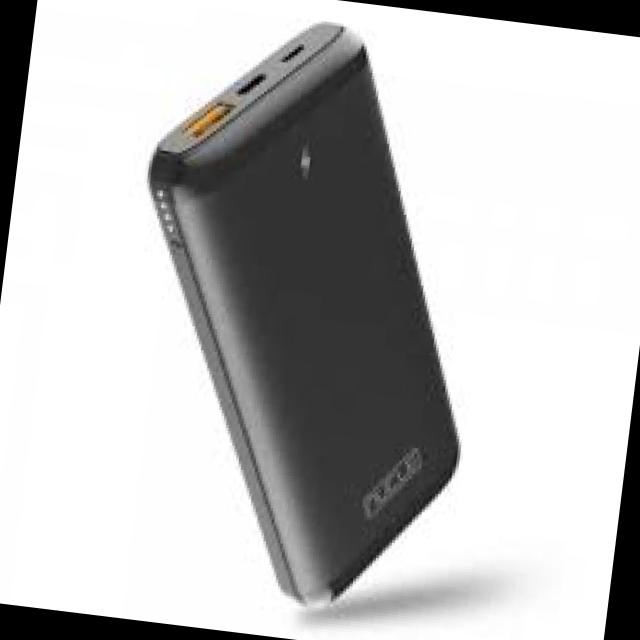power_bank: (90, 0, 510, 629)
